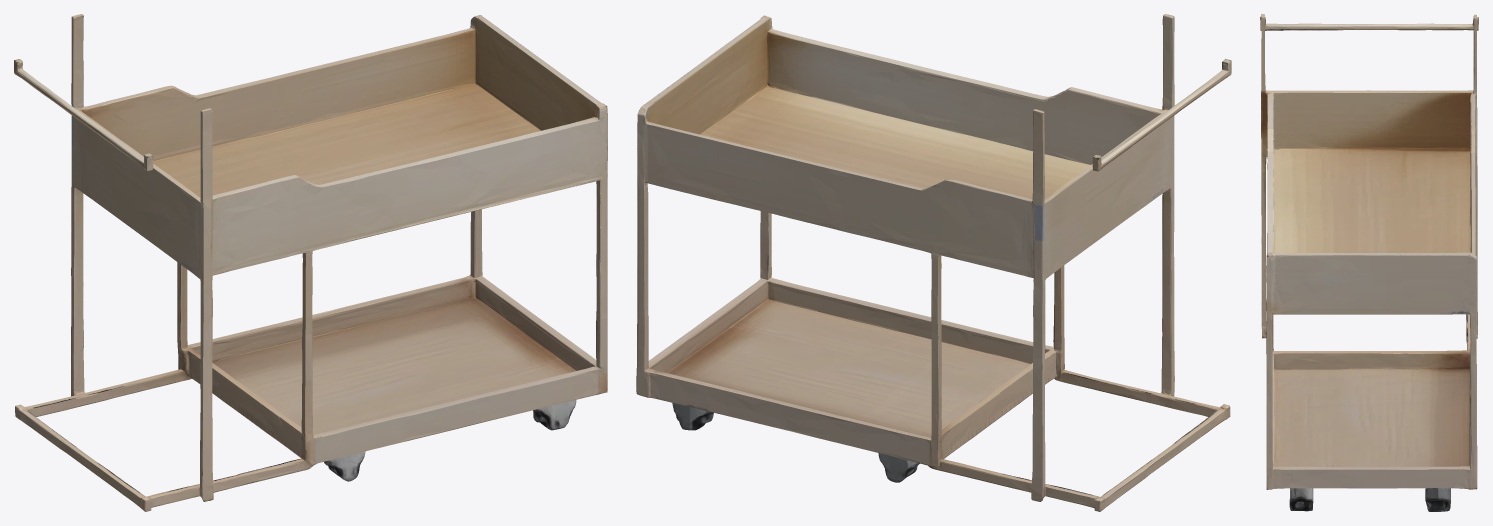
File: ef5b17d3-3069-403f-b4e1-33aad09df149.glb
3 renders of one model, left to right at view 1: azimuth 30°, elevation 25°; view 2: azimuth 150°, elevation 25°; view 3: azimuth 270°, elevation 25°, orthographic. The views are drawn at different scales.
Visible parts, largest first — view 1: world; view 2: world; view 3: world.
Part boxes in pixels (bbox=[...]): world: bbox=[14, 14, 607, 511]; world: bbox=[636, 14, 1231, 511]; world: bbox=[1260, 14, 1478, 511].
Size of the model in its own units: 1 by 0.8691 by 0.4971.
Materials: 1 (1 with a texture image).
